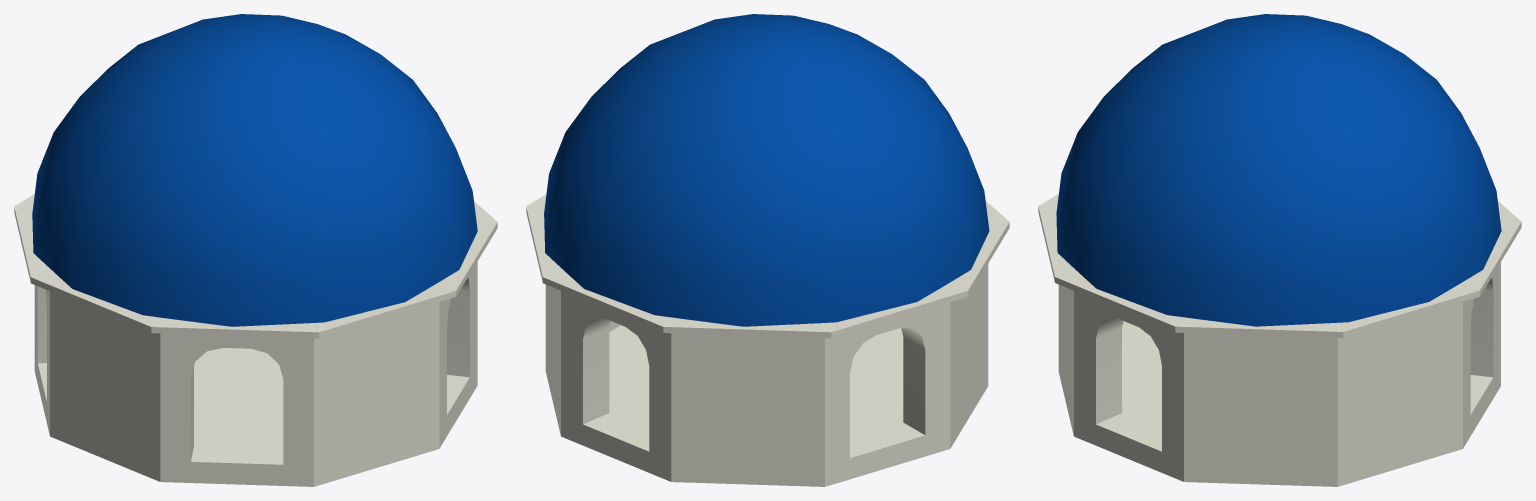
The model's file is ExtraKoepel_exp.fbx.
3 renders of one model, left to right at view 1: azimuth 30°, elevation 25°; view 2: azimuth 150°, elevation 25°; view 3: azimuth 270°, elevation 25°, orthographic.
Visible parts, largest first — view 1: pCylinder3; view 2: pCylinder3; view 3: pCylinder3.
Boxes of the visible parts, <box> form: pCylinder3: <box>14,14,497,486</box>; pCylinder3: <box>526,14,1009,486</box>; pCylinder3: <box>1038,14,1521,486</box>.
Size of the model in its own units: 5.91 by 4.87 by 5.93.
